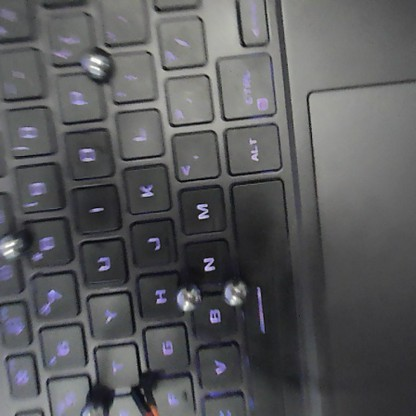ironball: (77, 43, 113, 85), (216, 274, 249, 308), (0, 226, 29, 262), (172, 282, 202, 312)
